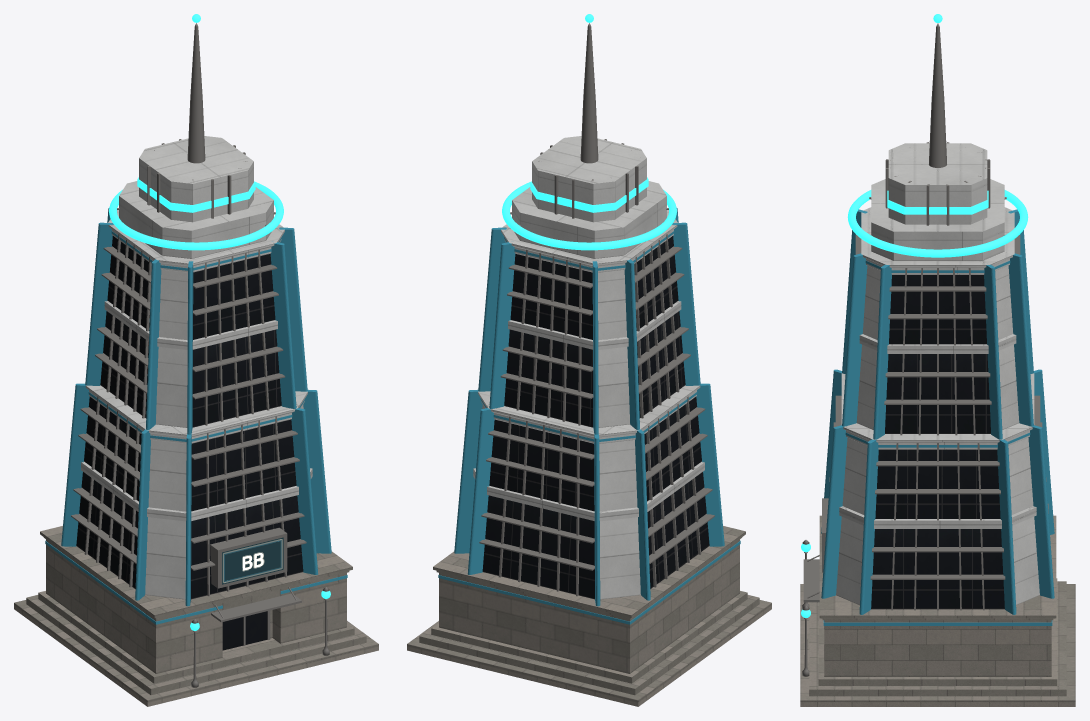
File: biota-blockchain.glb
3 renders of one model, left to right at view 1: azimuth 30°, elevation 25°; view 2: azimuth 150°, elevation 25°; view 3: azimuth 270°, elevation 25°, orthographic. The views are drawn at different scales.
Parts seen in each view (by area): view 1: Landmark · Biota.blockchain (BioDAO.X); view 2: Landmark · Biota.blockchain (BioDAO.X); view 3: Landmark · Biota.blockchain (BioDAO.X).
Boxes of the visible parts, left/top/right/bottom form: Landmark · Biota.blockchain (BioDAO.X): left=14, top=14, right=378, bottom=706; Landmark · Biota.blockchain (BioDAO.X): left=407, top=14, right=771, bottom=706; Landmark · Biota.blockchain (BioDAO.X): left=800, top=14, right=1075, bottom=706.
Size of the model in its own units: 12 by 30.5 by 12.
7 materials, 4 textured.
